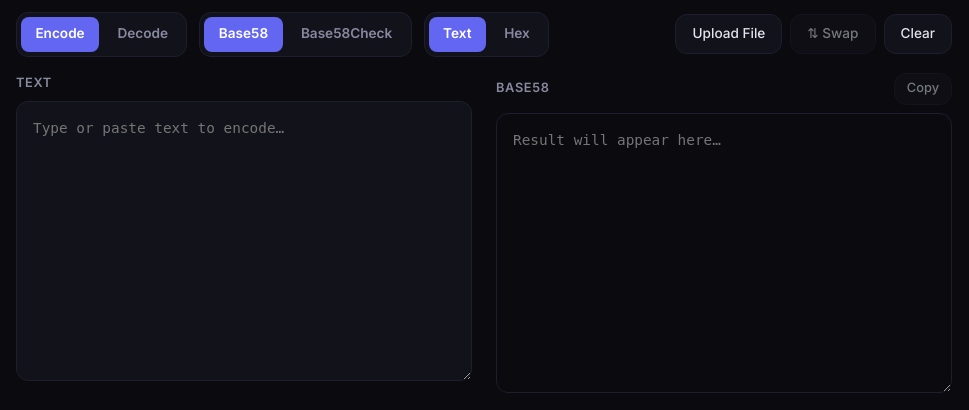
Test case: Base58Tool UI & Interactions › handles Hex input format in Encode mode
Click the button "Hex" at (517, 34), box [490,17,544,52]
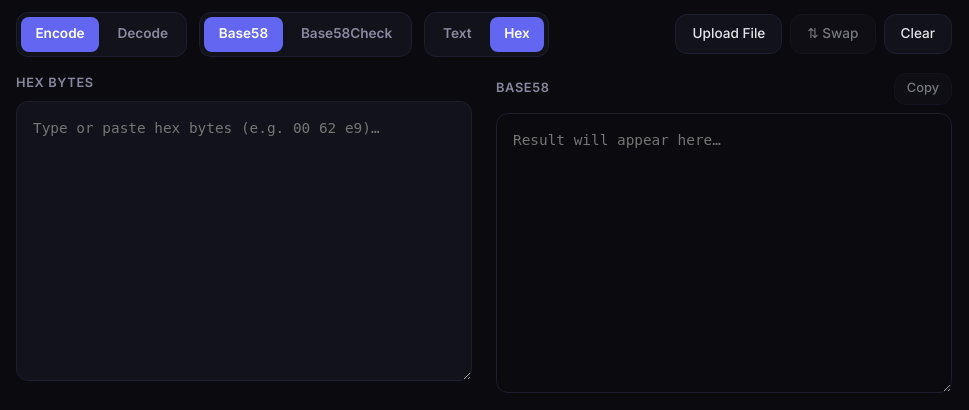
Type "48 65 6c 6c 6f 20 57 6f 72 6c 64" into the text box labelled "Hex Bytes" at (244, 241), box [16,101,472,381]
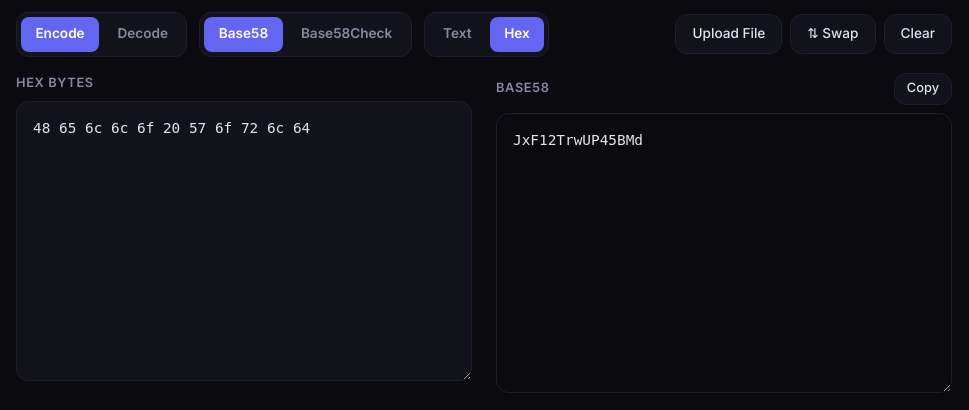
Now the text box labelled "Base58" holds "JxF12TrwUP45BMd", box [496,113,952,393]
